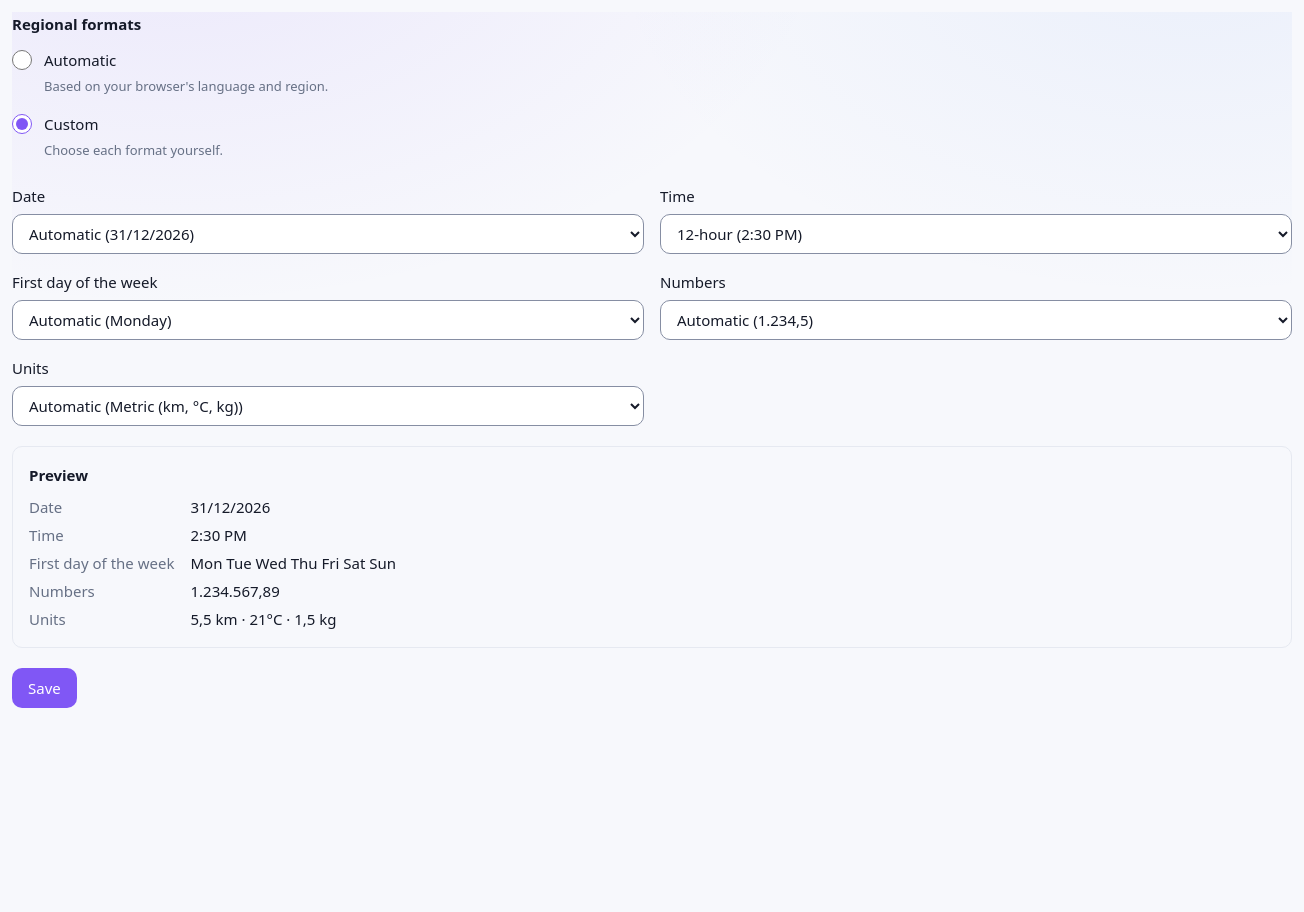
Test: RegionalSetting › a page left open never undoes a choice saved on another device
Select "Sunday" in the dropdown labelled "First day of the week": (328, 320) top-left (12, 300), bottom-right (644, 340)
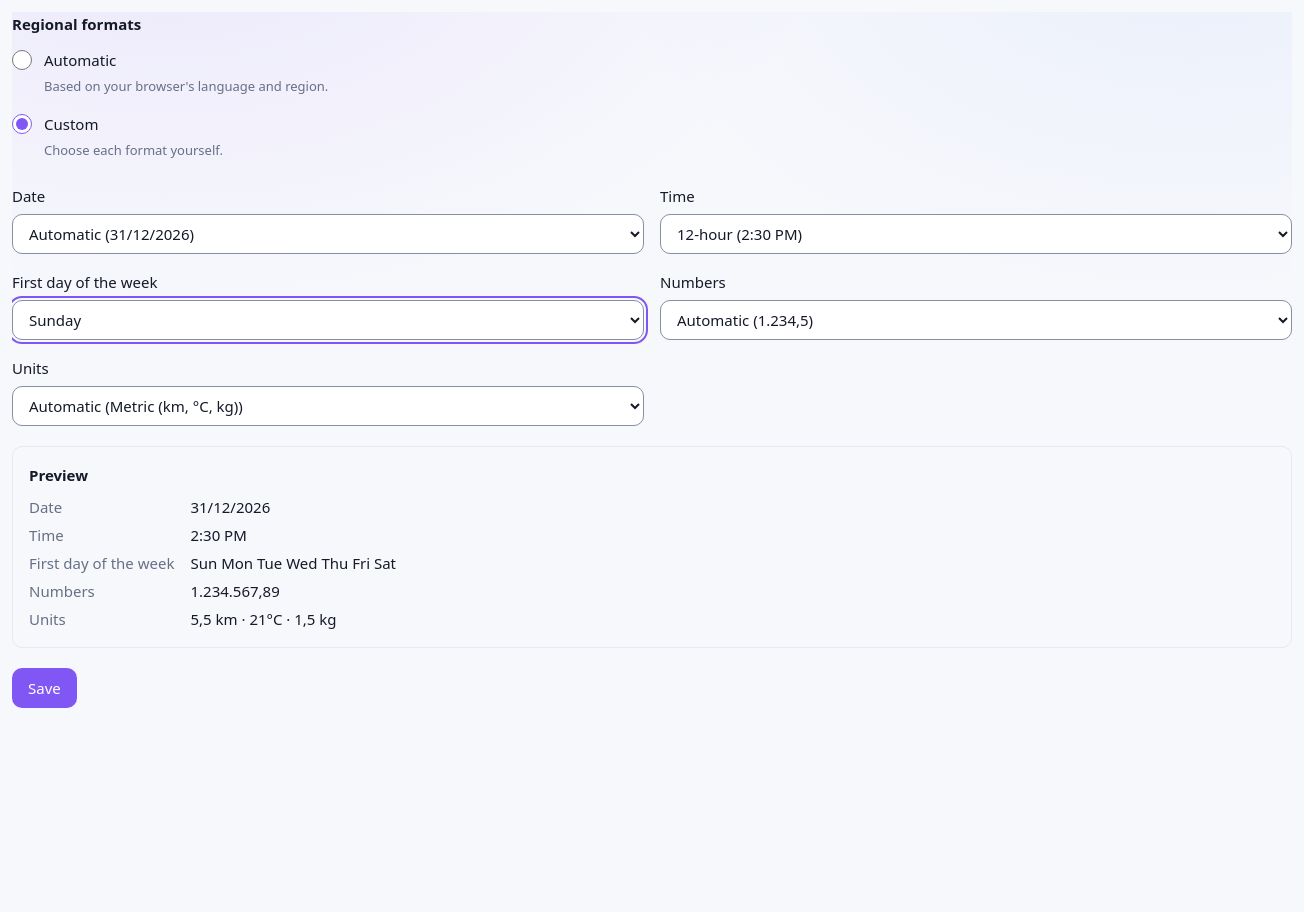
Click the button "Save": (44, 688) top-left (12, 668), bottom-right (77, 708)
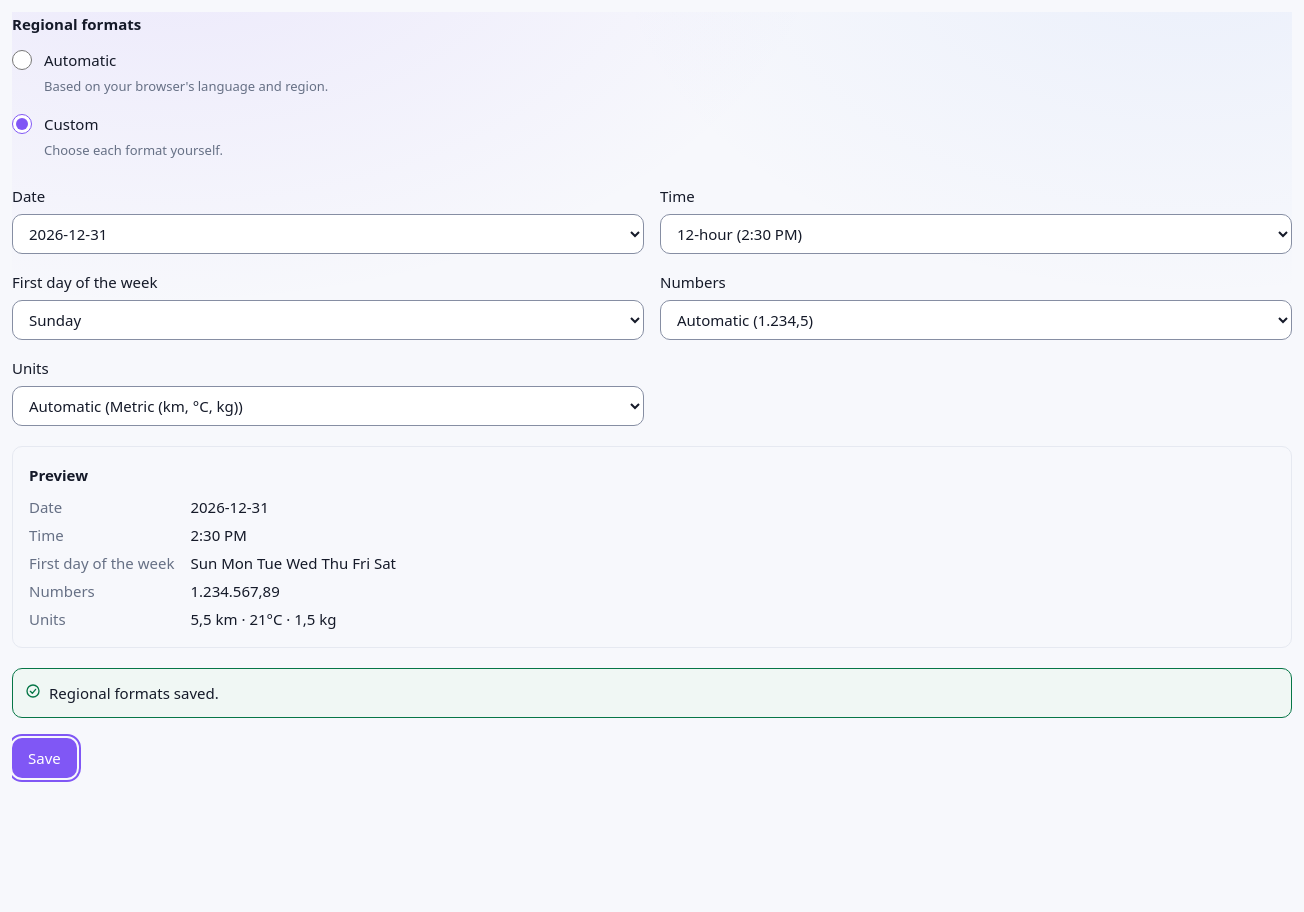
Expected: the message "Regional formats saved." is shown, top-left (12, 668), bottom-right (1292, 718)
Expected: the dropdown labelled "Date" shows "2026-12-31", top-left (12, 214), bottom-right (644, 254)
